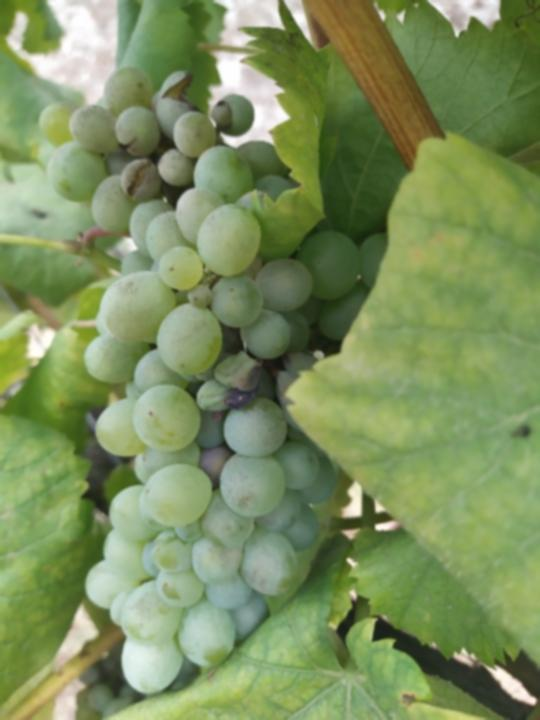grape: (45, 62, 364, 699)
